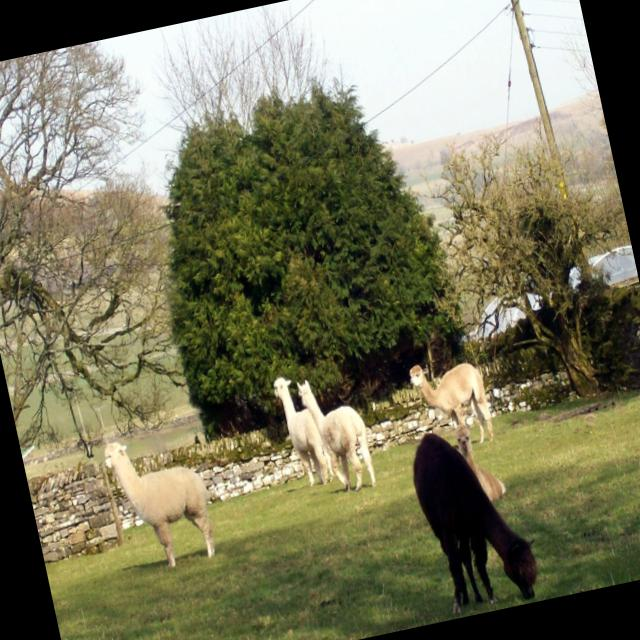alpaca: (406, 418, 545, 618), (100, 423, 221, 577), (294, 368, 378, 499), (408, 354, 498, 456), (272, 368, 338, 484), (451, 420, 508, 506)
